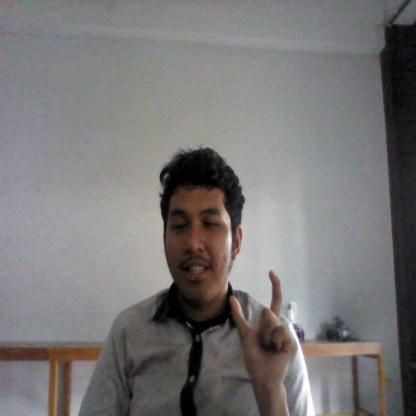U: (228, 266, 301, 390)
